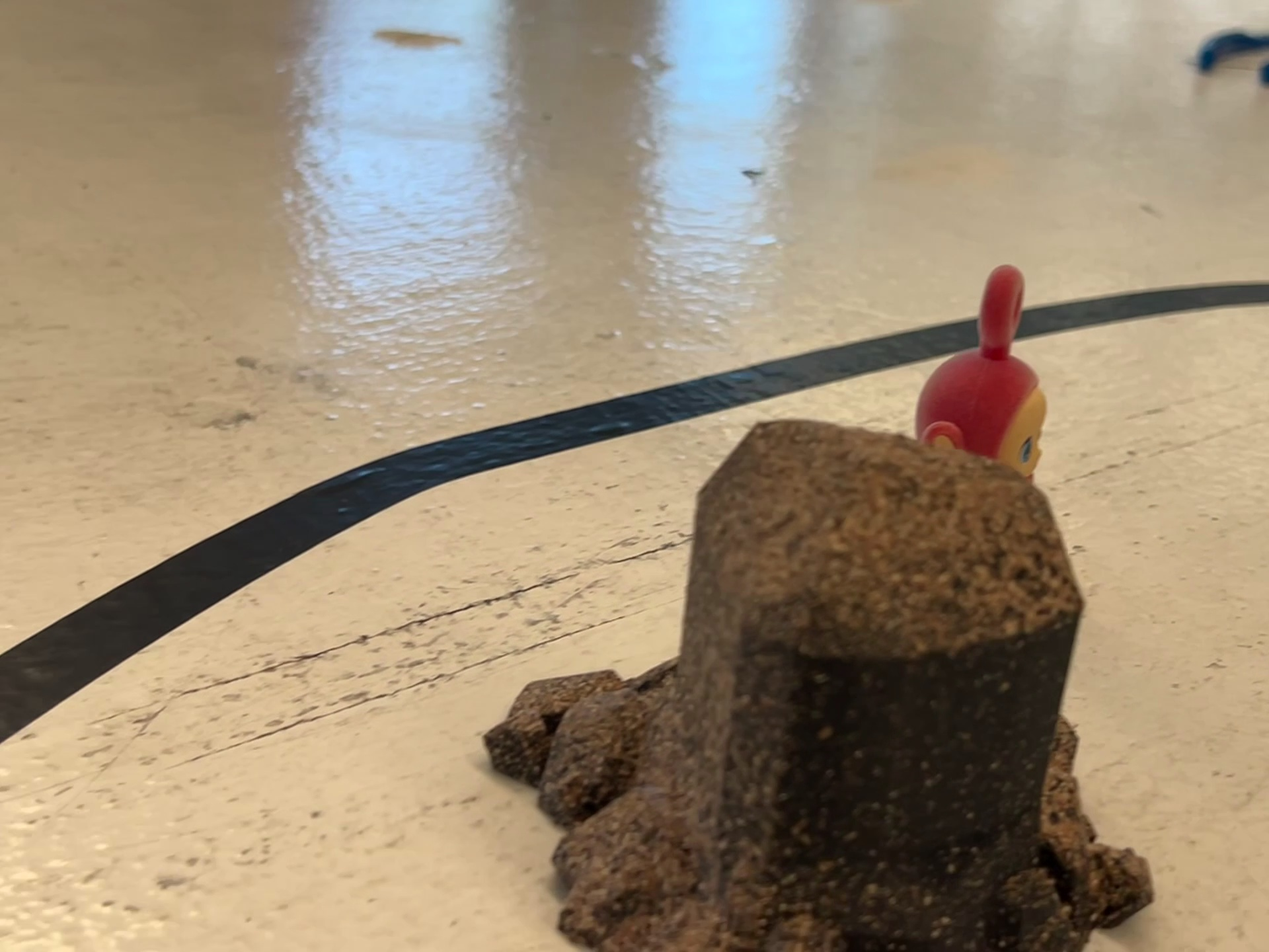teletubby: (915, 265, 1047, 481)
